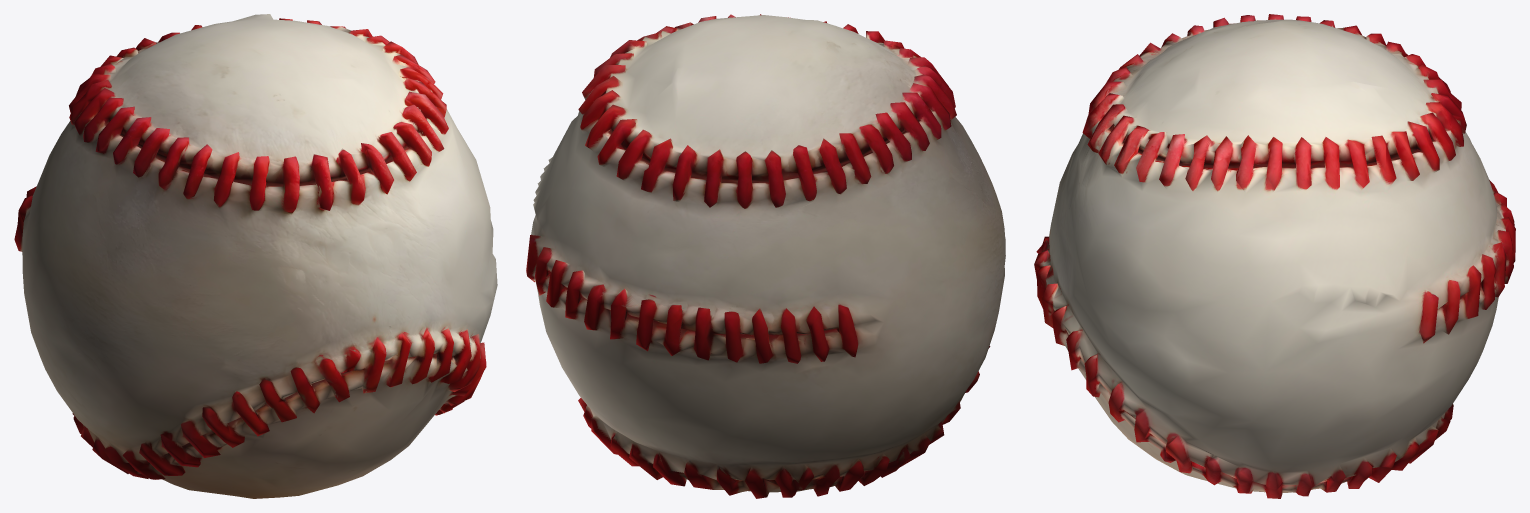
File: ball-baseball.glb
3 renders of one model, left to right at view 1: azimuth 30°, elevation 25°; view 2: azimuth 150°, elevation 25°; view 3: azimuth 270°, elevation 25°, orthographic. The views are drawn at different scales.
Visible parts, largest first — view 1: tripo_node_f2dcbc52-9f07-49d4-b082-a584f592b892; view 2: tripo_node_f2dcbc52-9f07-49d4-b082-a584f592b892; view 3: tripo_node_f2dcbc52-9f07-49d4-b082-a584f592b892.
Part boxes in pixels (bbox=[...]): tripo_node_f2dcbc52-9f07-49d4-b082-a584f592b892: bbox=[14, 14, 497, 498]; tripo_node_f2dcbc52-9f07-49d4-b082-a584f592b892: bbox=[526, 14, 1005, 498]; tripo_node_f2dcbc52-9f07-49d4-b082-a584f592b892: bbox=[1034, 14, 1515, 498].
Size of the model in its own units: 0.9514 by 0.9571 by 0.9796.
1 material, 1 textured.
